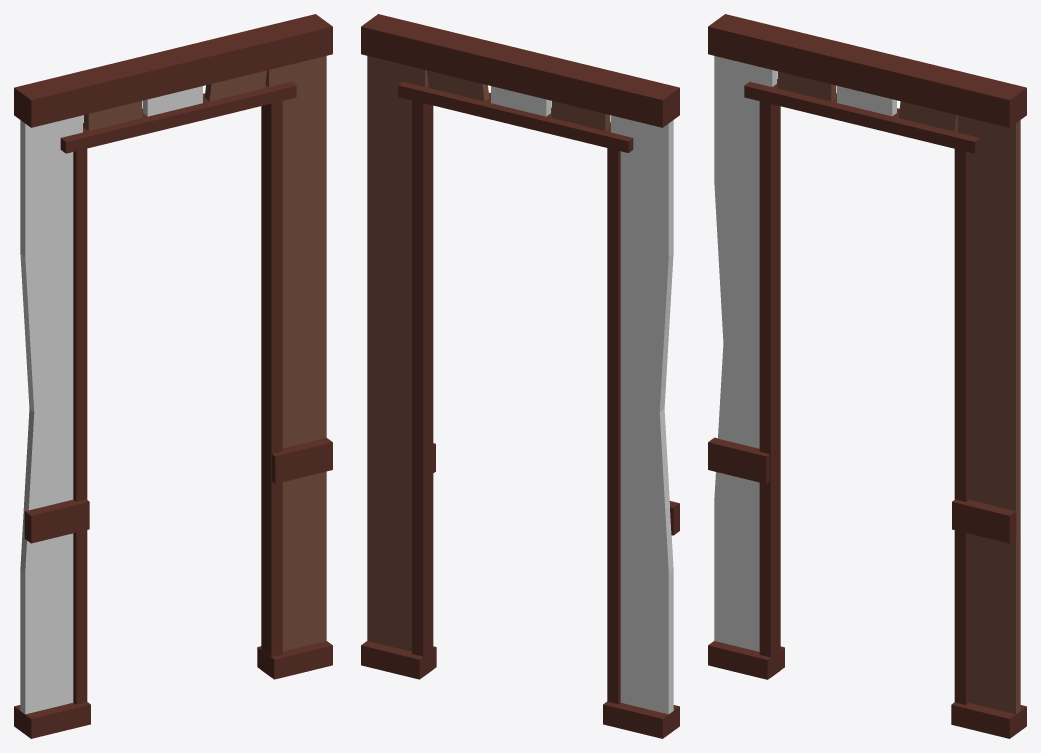
The model's file is ScrapDoor1.fbx.
The picture shows the model from 3 angles, left to right: view 1: azimuth 30°, elevation 25°; view 2: azimuth 150°, elevation 25°; view 3: azimuth 330°, elevation 25°; orthographic projection.
Parts seen in each view (by area): view 1: Cube; view 2: Cube; view 3: Cube.
Part boxes in pixels (bbox=[...]): Cube: bbox=[14, 14, 332, 738]; Cube: bbox=[361, 14, 679, 738]; Cube: bbox=[708, 14, 1026, 738].
Size of the model in its own units: 200 by 405 by 19.8.
